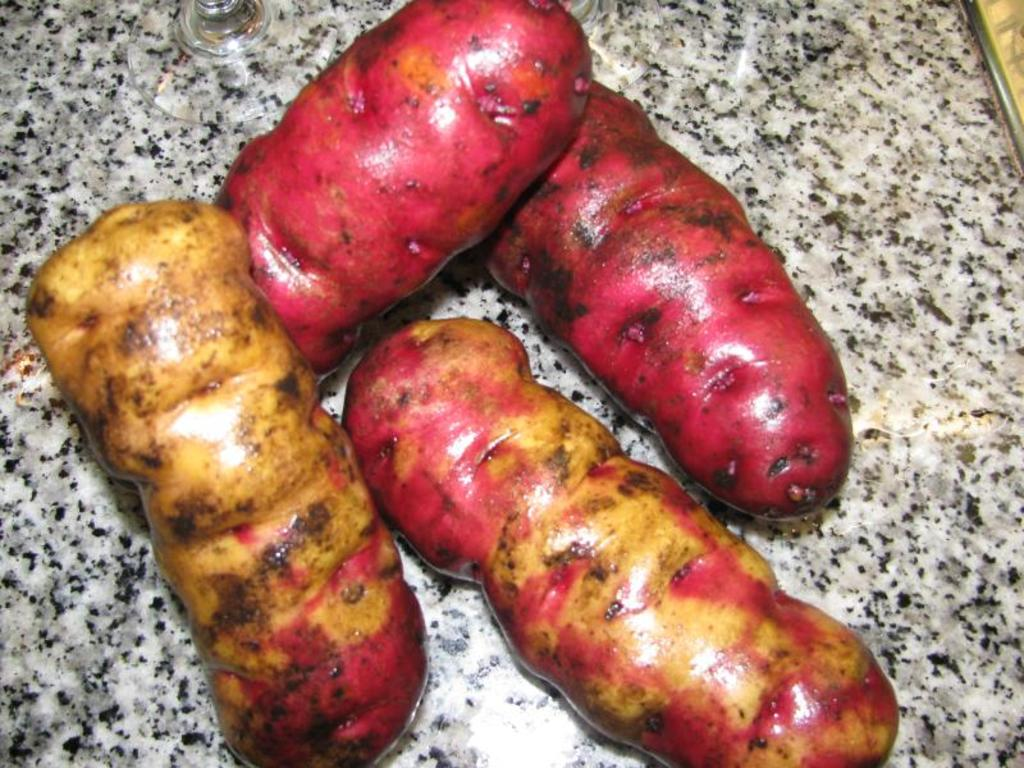face: (339, 5, 580, 256)
